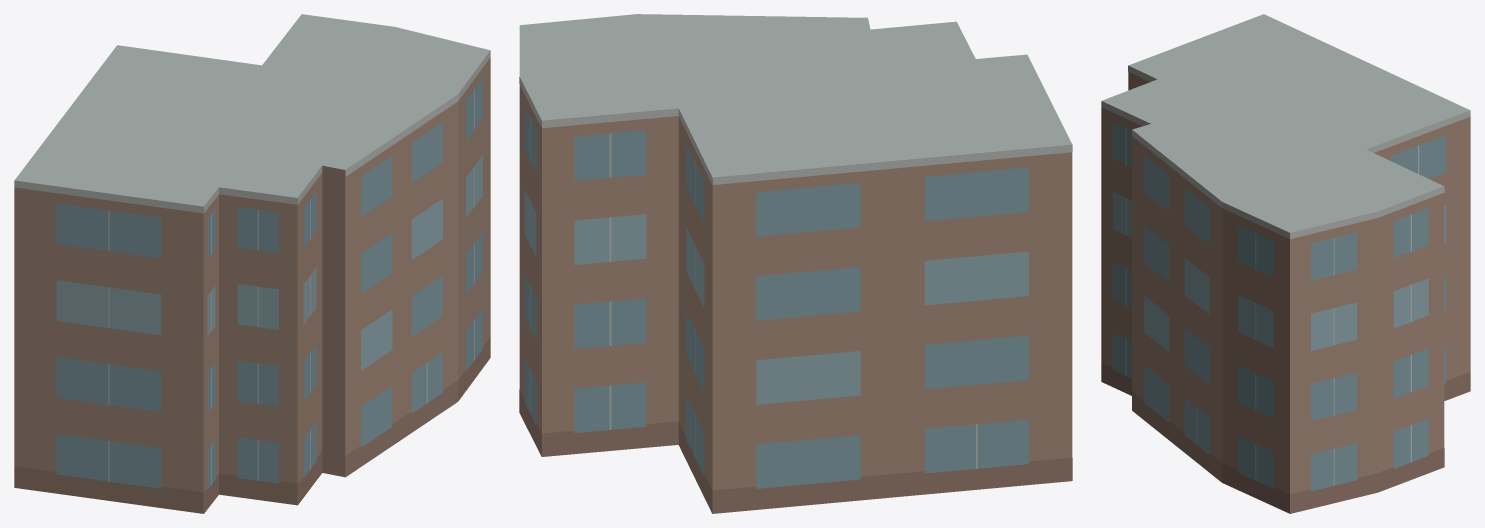
Rendered from survey-upis-32963593.glb.
3 views of the same model, side by side, from view 1: azimuth 30°, elevation 25°; view 2: azimuth 150°, elevation 25°; view 3: azimuth 270°, elevation 25° (orthographic). The views are drawn at different scales.
Visible parts, largest first — view 1: survey-upis-32963593.tmp; view 2: survey-upis-32963593.tmp; view 3: survey-upis-32963593.tmp.
Boxes of the visible parts, x1,y1,x2,y2 form: survey-upis-32963593.tmp: (14,14,490,513); survey-upis-32963593.tmp: (519,14,1072,513); survey-upis-32963593.tmp: (1101,14,1470,513).
Bounding box in the file's own units: 18.23 × 10.9 × 12.99.
